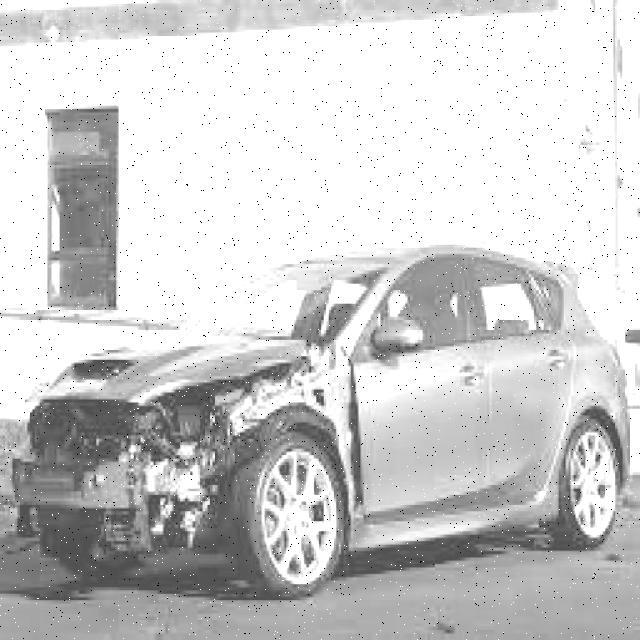car damage: (12, 347, 370, 560)
